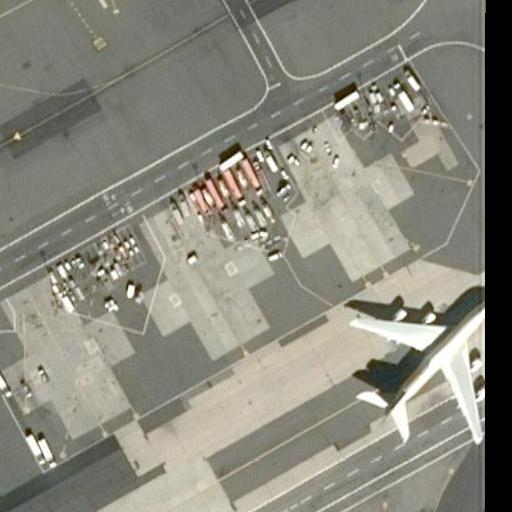Aircraft: (340, 276, 489, 449)
